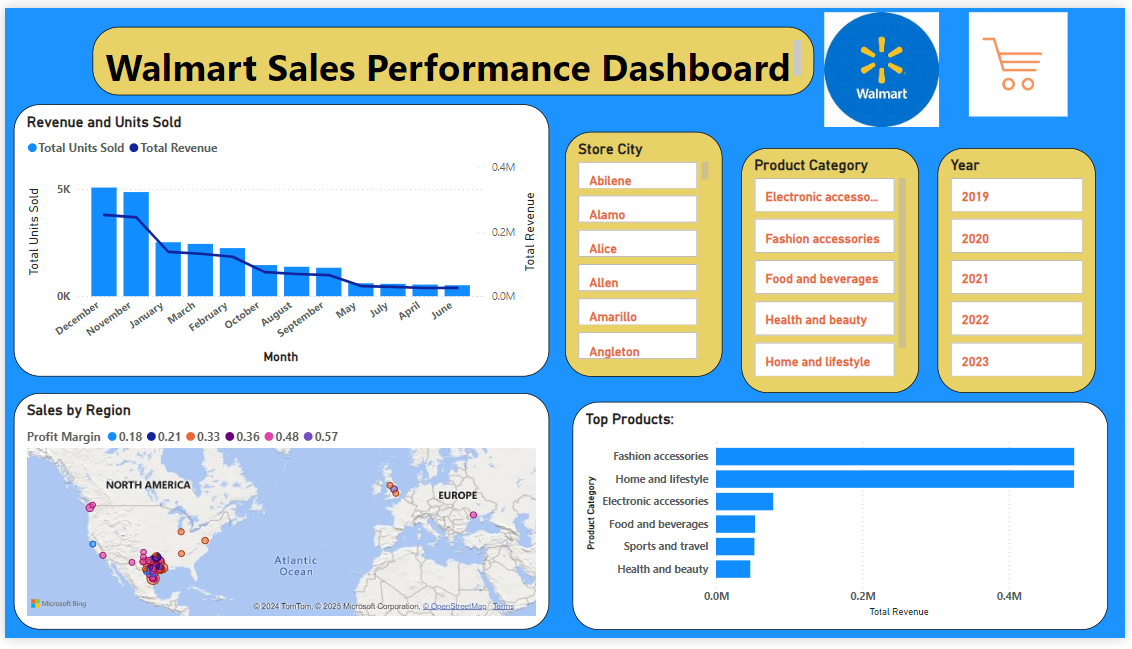

The dashboard page shown, as its layout file describes it:
{"tool":"powerbi","page":{"name":"Page 1","canvas":[1280,720],"ordinal":0},"visuals":[{"type":"lineStackedColumnComboChart","title":"Revenue and Units Sold","fields":{"Category":["walmart_clean_data.Month"],"Y":["walmart_clean_data.Total Units Sold"],"Y2":["walmart_clean_data.Total Revenue"]},"box":[9.6,109.8,612,311.5],"z":0},{"type":"map","title":"Sales by Region","fields":{"Category":["walmart_clean_data.Store City"],"Size":["walmart_clean_data.Total Revenue"],"Series":["walmart_clean_data.Profit Margin"]},"box":[9.6,440.5,612,270.3],"z":1000},{"type":"barChart","title":"Top Products:","fields":{"Category":["walmart_clean_data.Product Category"],"Y":["walmart_clean_data.Total Revenue"]},"box":[649.1,450.1,612,260.7],"z":2000},{"type":"advancedSlicerVisual","fields":{"Values":["walmart_clean_data.Year"]},"box":[1066.2,160.5,181.1,279.9],"z":3000},{"type":"advancedSlicerVisual","fields":{"Values":["walmart_clean_data.Store City"]},"box":[639.5,141.3,179.8,279.9],"z":4000},{"type":"advancedSlicerVisual","fields":{"Values":["walmart_clean_data.Product Category"]},"box":[841.2,160.5,203.1,279.9],"z":5000},{"type":"textbox","box":[100.2,22,824.7,78.2],"z":6000},{"type":"image","box":[924.9,0,155.1,141.3],"z":7000},{"type":"image","box":[1079.9,0,156.4,129],"z":8000}]}

Visuals, with their boxes in screenshot pixels (x1, y1, x2, y2), scaled from the page's 1280x720 canvas onto the 1132x649 screenshot:
"Revenue and Units Sold" lineStackedColumnComboChart: 8:99:550:380
"Sales by Region" map: 8:397:550:641
"Top Products:" barChart: 574:406:1115:641
advancedSlicerVisual - walmart_clean_data.Year: 943:145:1103:397
advancedSlicerVisual - walmart_clean_data.Store City: 566:127:725:380
advancedSlicerVisual - walmart_clean_data.Product Category: 744:145:924:397
textbox: 89:20:818:90
image: 818:0:955:127
image: 955:0:1093:116
